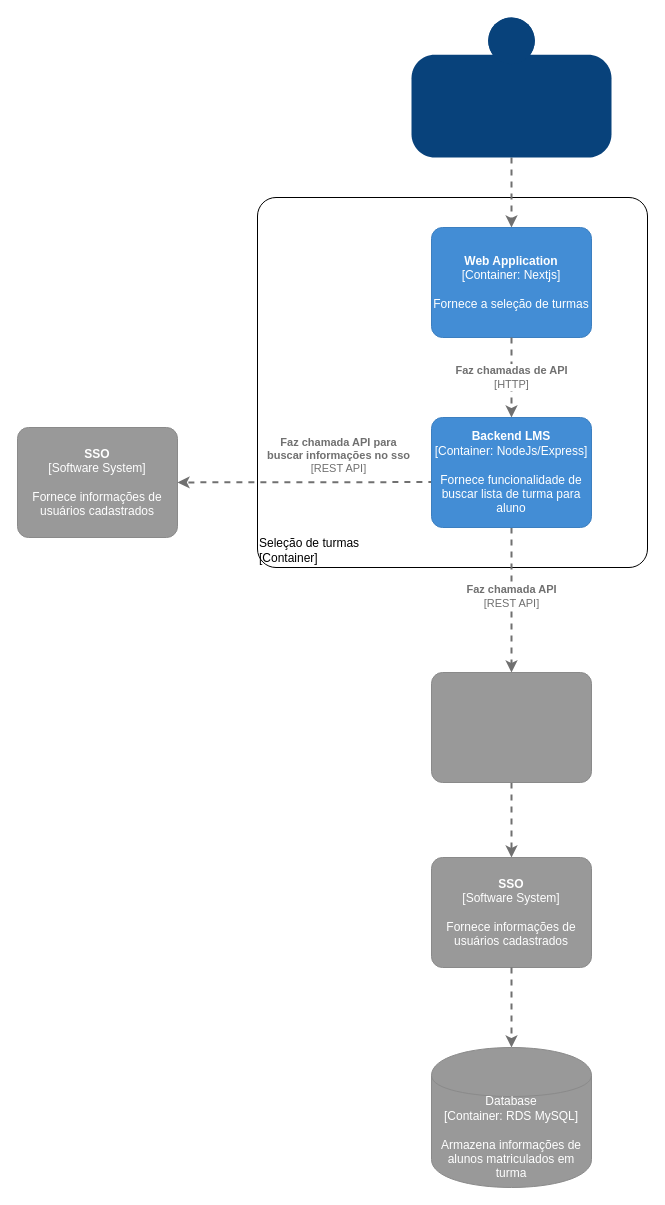
Some shapes in this 665 by 1205 pixel diagram are drawn without their labels. Here are the shapes that lost their labels. From the top down, the centre of each, then its label:
the point at 511,87: Aluno [Person] Aluno matriculado em uma turma
the point at 511,727: ERP [Software System] Fornece a lista de turmas que aluno está matriculado
